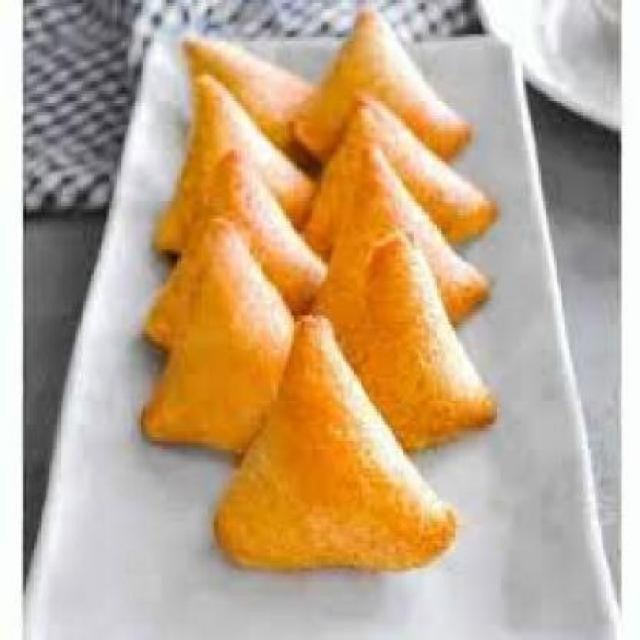samosa: (212, 317, 458, 572), (140, 218, 292, 454), (311, 148, 491, 340), (337, 232, 495, 450), (304, 94, 498, 263), (156, 75, 316, 257), (291, 12, 474, 168), (166, 150, 328, 318), (182, 38, 312, 162)
